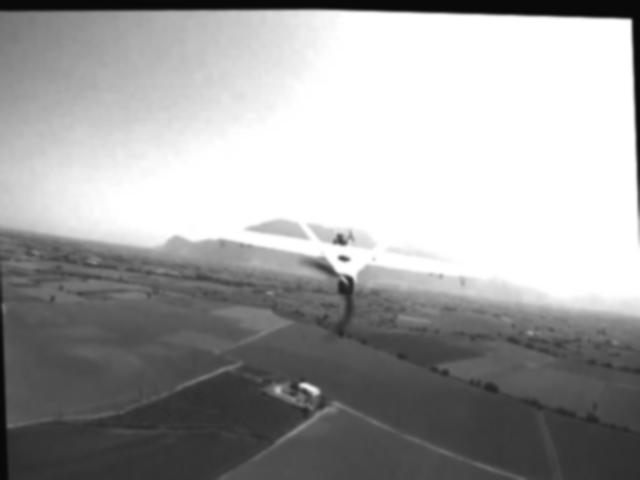hedef: (174, 174, 520, 333)
